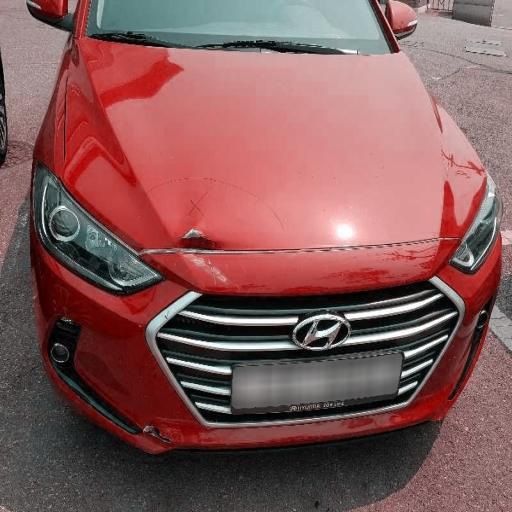scratch: (152, 180, 273, 332)
